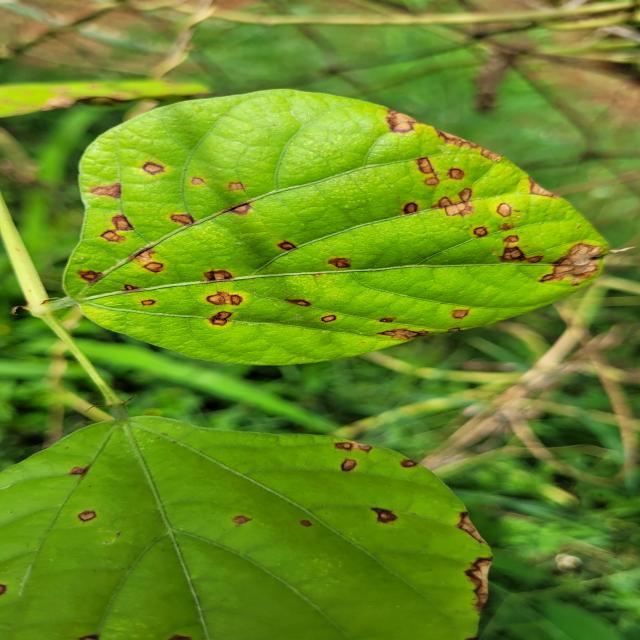Dolicos bean_cercospora leaf spot: (57, 89, 612, 364), (0, 424, 486, 640)
